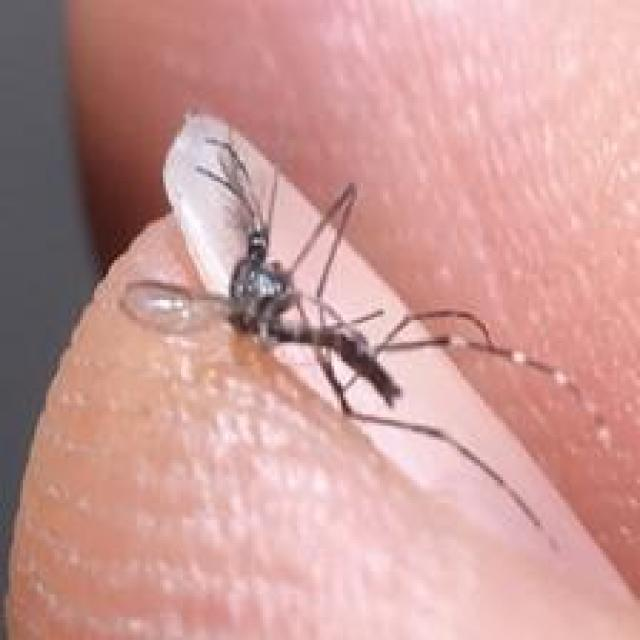Aedes albopictus: (117, 128, 603, 546)
